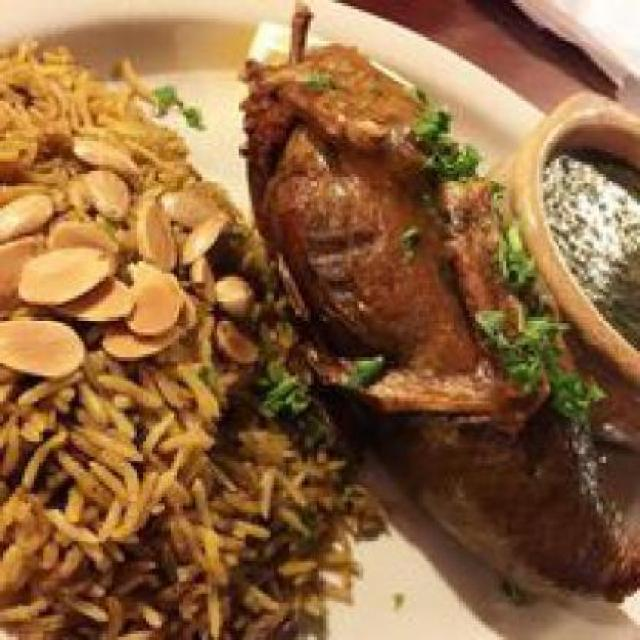fried rice: (3, 34, 255, 628)
